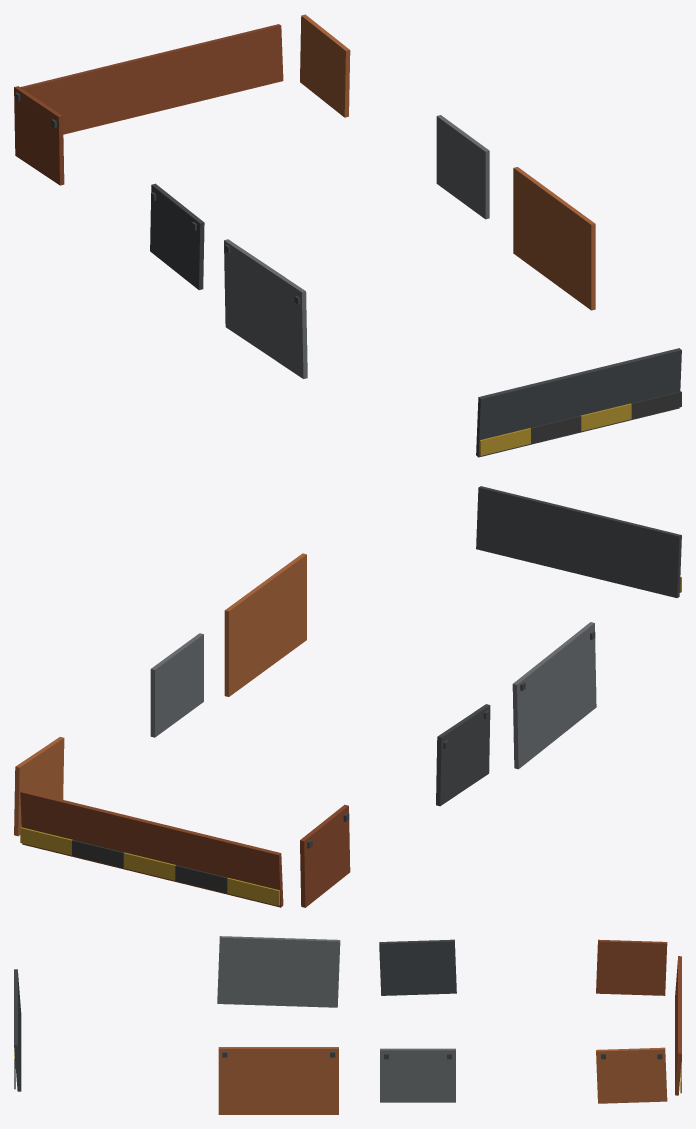
File: upg_armor_plates_t4.glb
3 views of the same model, one above another, from view 1: azimuth 30°, elevation 25°; view 2: azimuth 150°, elevation 25°; view 3: azimuth 270°, elevation 25° (orthographic). The views are drawn at different scales.
Parts seen in each view (by area): view 1: armor_plates; view 2: armor_plates; view 3: armor_plates.
Boxes of the visible parts, x1,y1,x2,y2 form: armor_plates: [14, 14, 681, 457]; armor_plates: [14, 486, 681, 907]; armor_plates: [14, 936, 681, 1114].
Size of the model in its own units: 2.07 by 0.6025 by 5.21.
